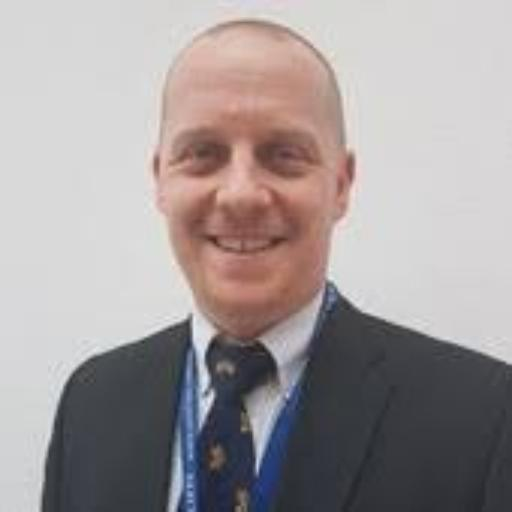left_eye: (265, 146, 316, 170)
left_lip_corner: (277, 231, 300, 248)
right_eye: (176, 141, 224, 169)
right_lip_corner: (197, 228, 221, 250)
